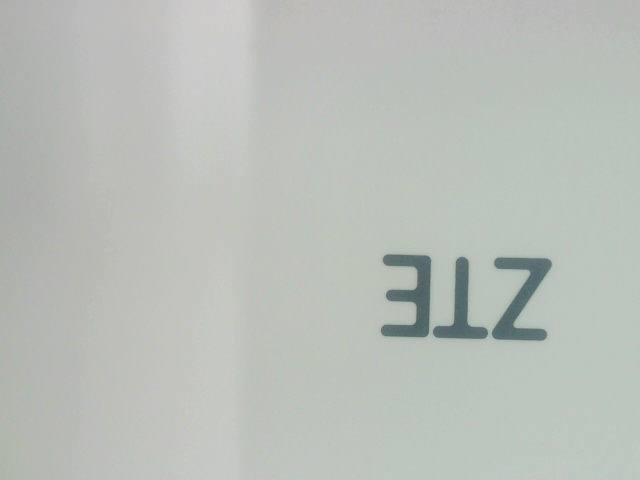AN_ZTE: (360, 244, 553, 341)
